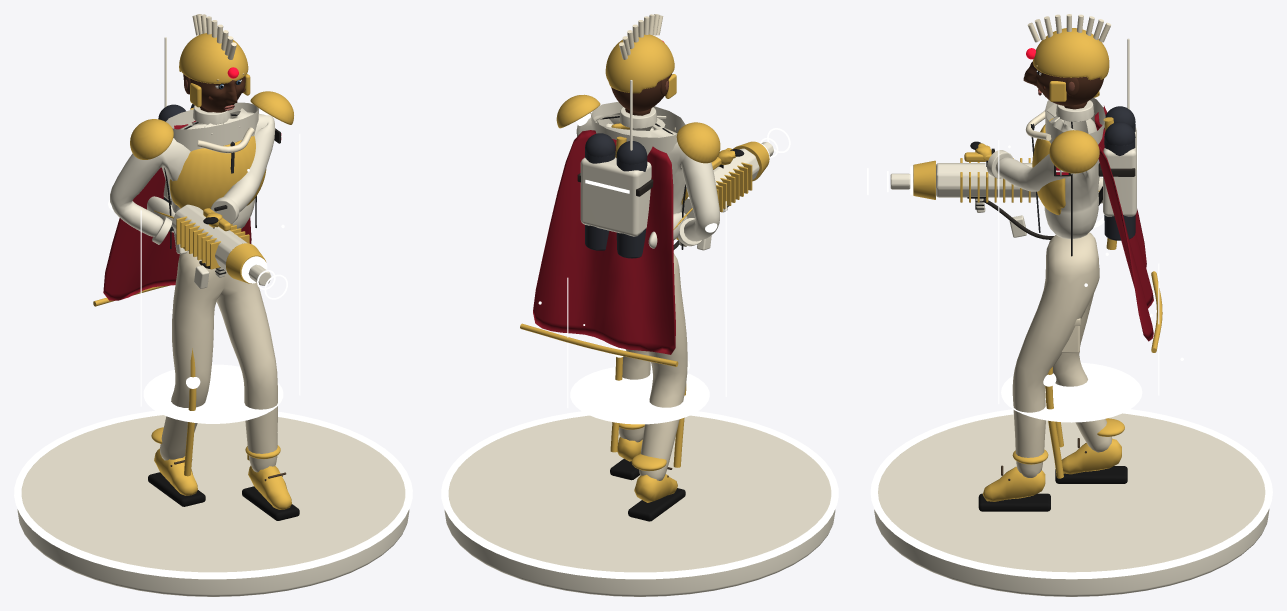
File: straale_guld.glb
3 renders of one model, left to right at view 1: azimuth 30°, elevation 25°; view 2: azimuth 150°, elevation 25°; view 3: azimuth 270°, elevation 25°, orthographic.
Parts seen in each view (by area): view 1: fod_net, menneske_net, op2.001_net, op4.002_net, hoved_net, vaaben_net, op4.001_net; view 2: fod_net, op2.001_net, menneske_net, op4.002_net, hoved_net, op3.001_net, vaaben_net, op4.001_net; view 3: fod_net, menneske_net, op2.001_net, hoved_net, op4.002_net, vaaben_net, op3.001_net, op4.001_net.
Part boxes in pixels (x1,y1,x2,y2): fod_net: (14, 411, 412, 596); menneske_net: (110, 102, 299, 520); op2.001_net: (93, 91, 293, 306); op4.002_net: (140, 134, 300, 423); hoved_net: (179, 14, 250, 112); vaaben_net: (147, 196, 267, 283); op4.001_net: (108, 107, 274, 476); fod_net: (441, 411, 838, 596); op2.001_net: (520, 94, 720, 366); menneske_net: (576, 102, 744, 521); op4.002_net: (538, 201, 726, 424); hoved_net: (605, 14, 676, 111); op3.001_net: (580, 80, 651, 236); vaaben_net: (648, 141, 769, 248); op4.001_net: (576, 113, 717, 467); fod_net: (870, 409, 1272, 596); menneske_net: (970, 97, 1135, 511); op2.001_net: (1025, 91, 1162, 352); hoved_net: (1023, 14, 1111, 105); op4.002_net: (998, 140, 1183, 422); vaaben_net: (910, 152, 1102, 205); op3.001_net: (1103, 38, 1137, 216); op4.001_net: (1043, 117, 1116, 478).
Size of the model in its own units: 1.94 by 2.65 by 1.95.
